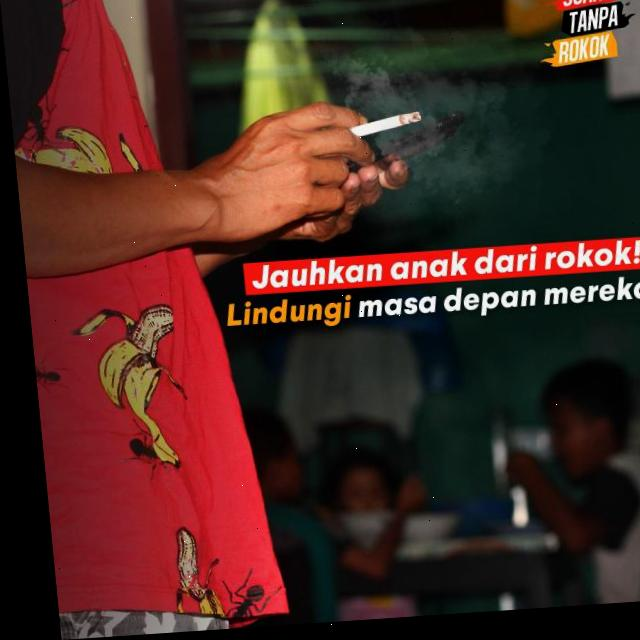cigarette: (348, 115, 420, 142)
